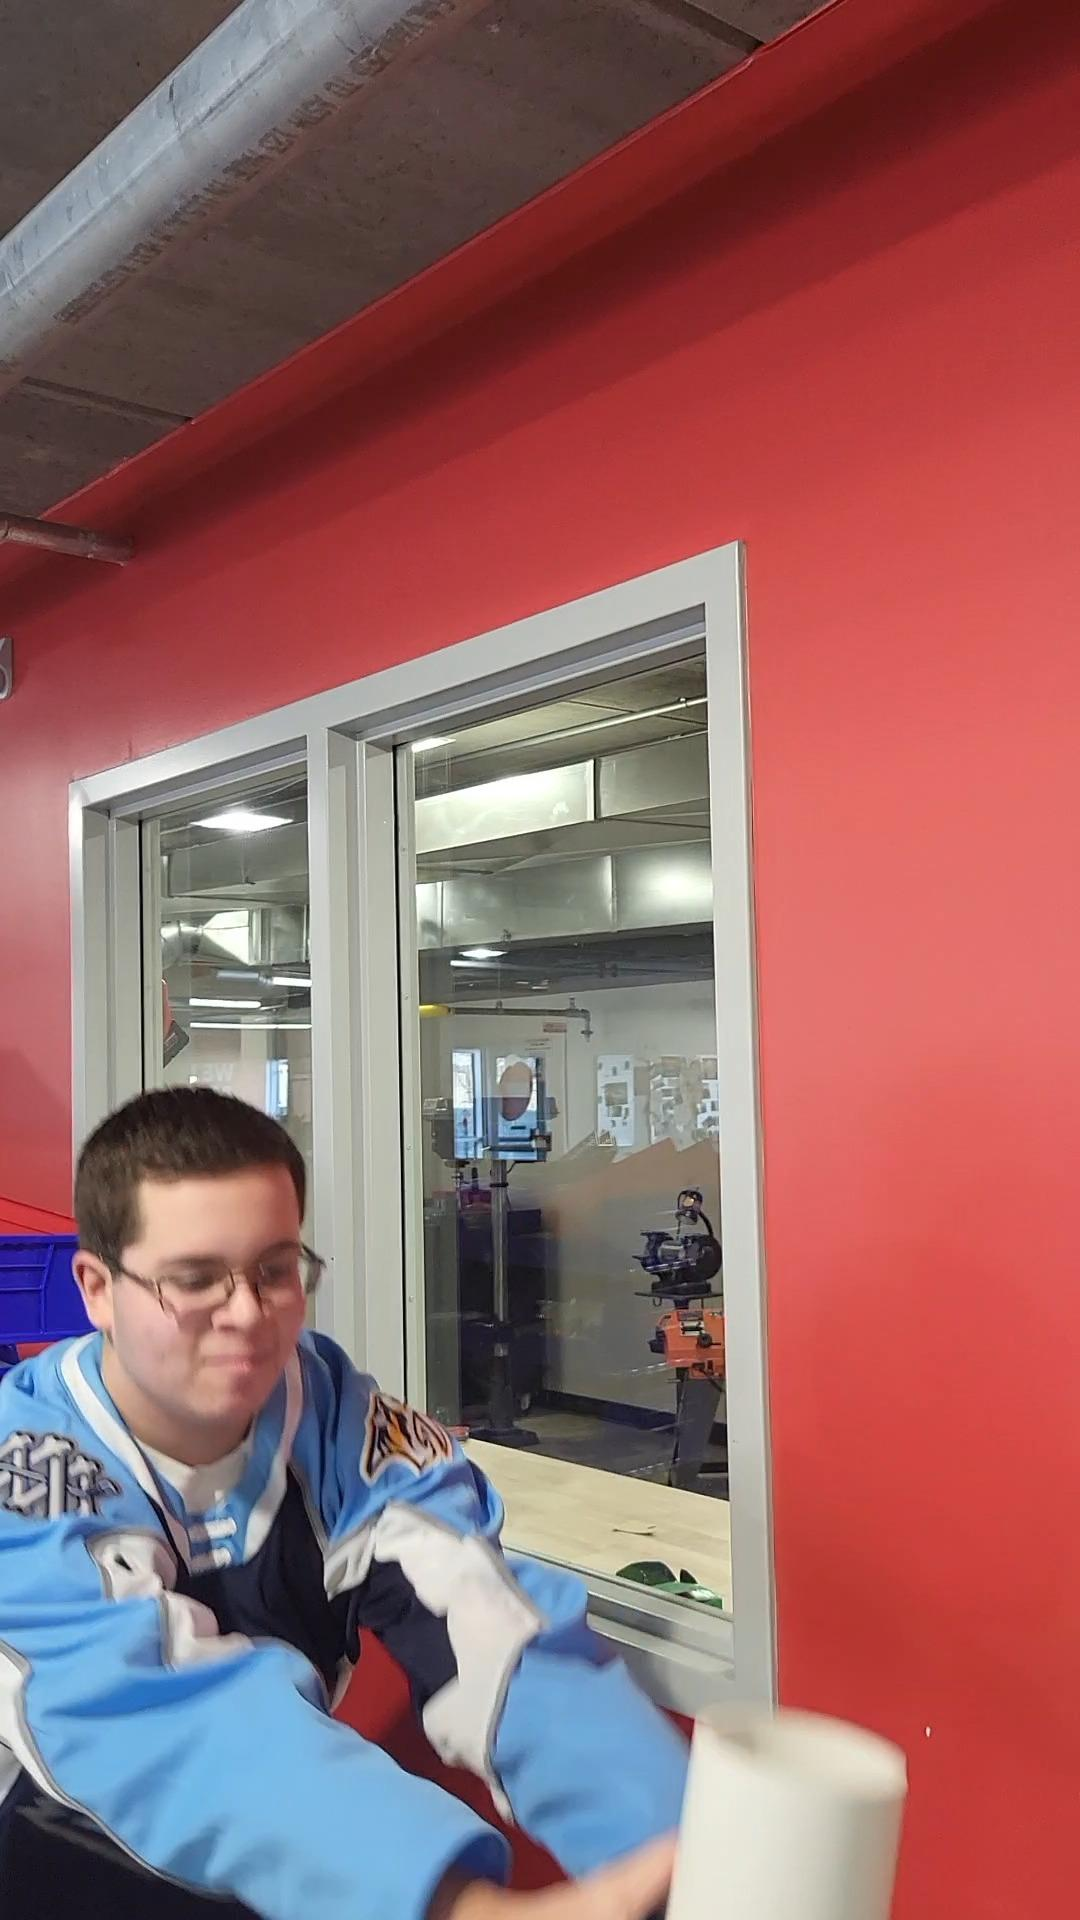coral: (667, 1697, 920, 1920)
